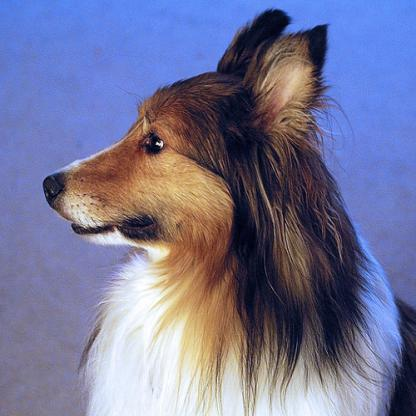Shetland_sheepdog: (38, 5, 414, 413)
